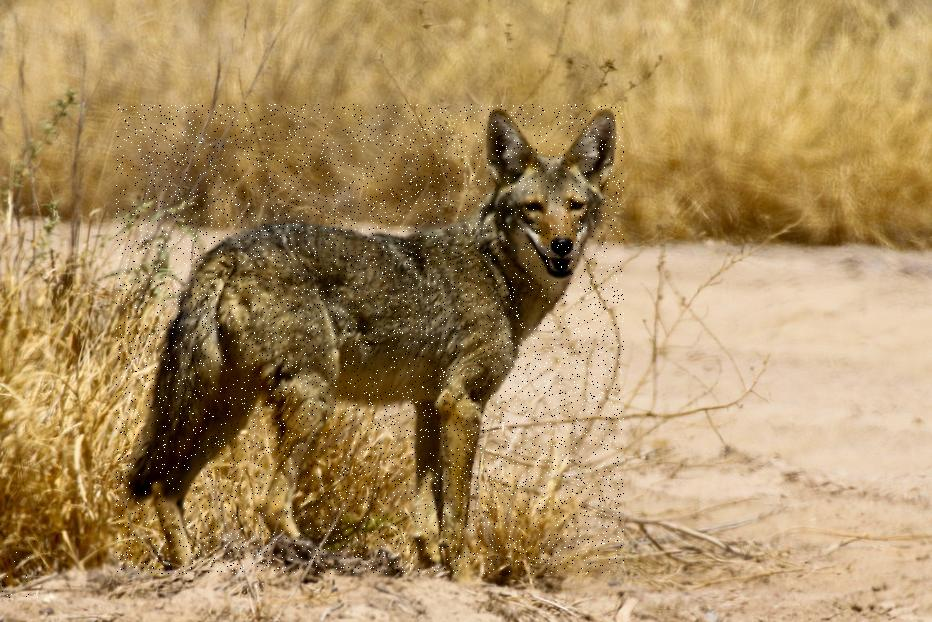Coyote: (115, 105, 623, 575)
Hog: (0, 534, 41, 599)
